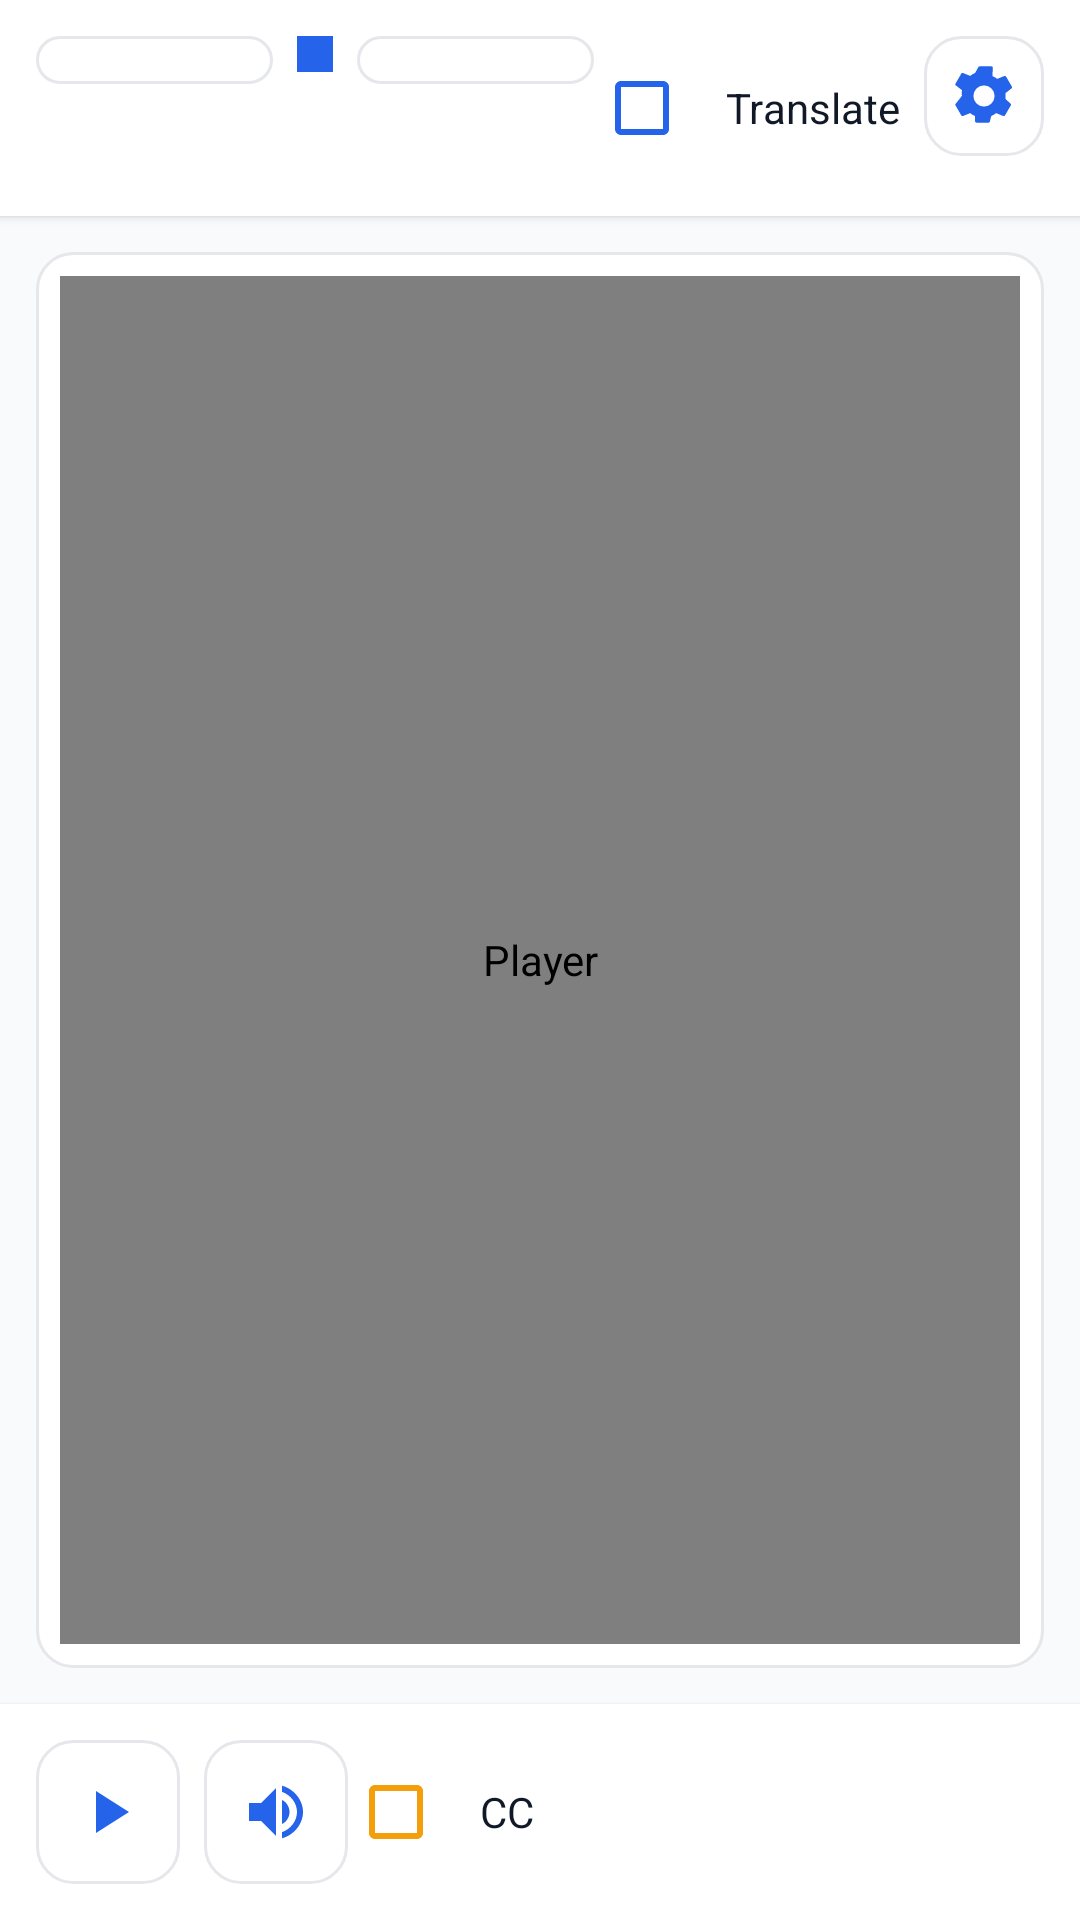

Named icons in this screenshot (1080 × 1920) and their centers, (x=x, y=y):
Mute: (x=276, y=1812)
Settings: (x=984, y=96)
